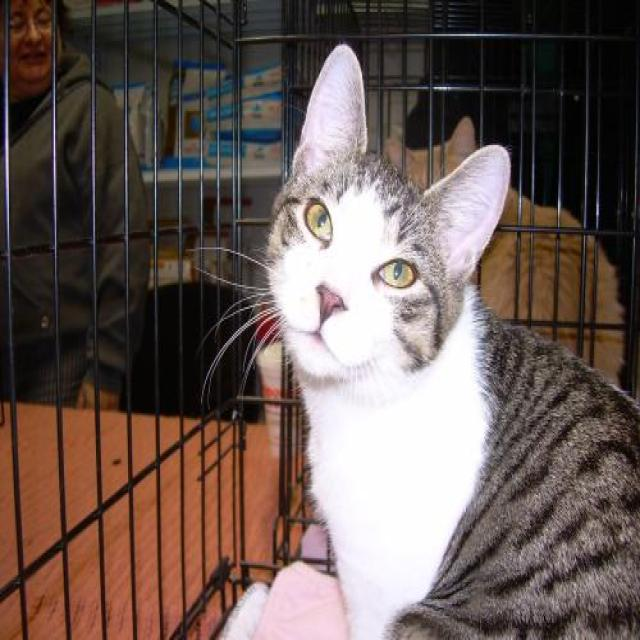Cats: (194, 41, 638, 638), (380, 112, 627, 392)
